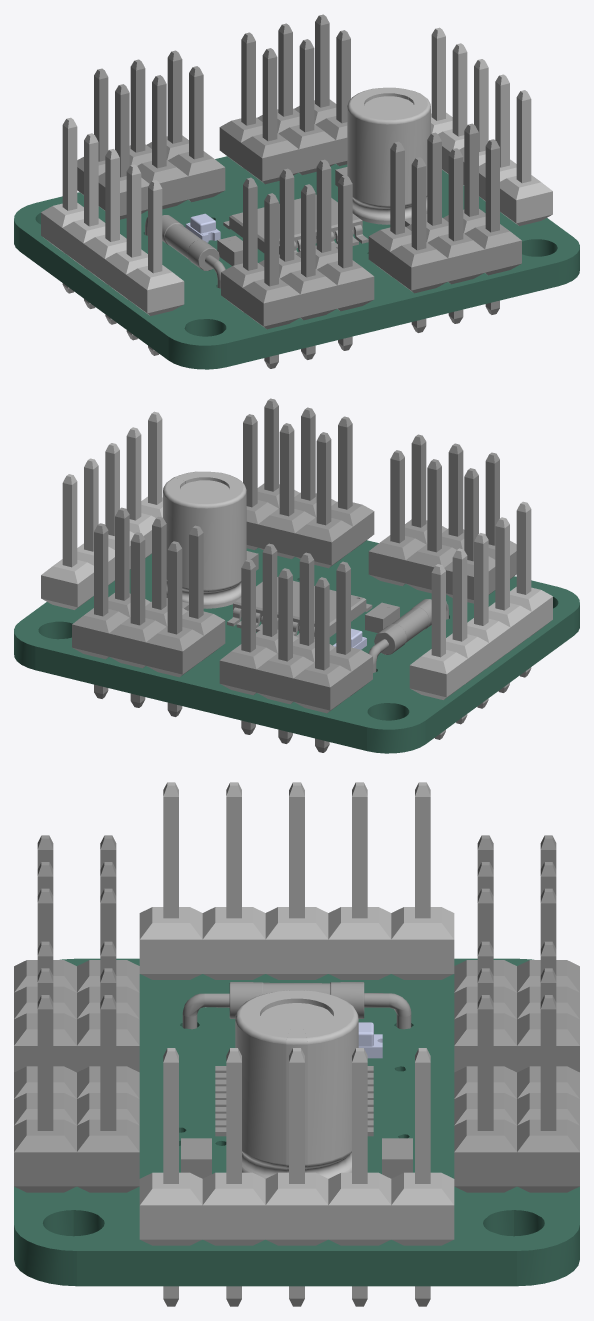
File: ada-1455.glb
3 renders of one model, top to bottom at view 1: azimuth 30°, elevation 25°; view 2: azimuth 150°, elevation 25°; view 3: azimuth 270°, elevation 25°, orthographic. The views are drawn at different scales.
Visible parts, largest first — view 1: 0.3333333333333333_0.3333333333333333_0.3333333333333333_0, 0.5_0.5_0.5_0.85, 0.08333333333333333_0.16666666666666666_0.16666666666666666_, 0.5833333333333334_0.6666666666666666_0.8333333333333334_0; view 2: 0.3333333333333333_0.3333333333333333_0.3333333333333333_0, 0.5_0.5_0.5_0.85, 0.08333333333333333_0.16666666666666666_0.16666666666666666_; view 3: 0.5_0.5_0.5_0.85, 0.3333333333333333_0.3333333333333333_0.3333333333333333_0, 0.08333333333333333_0.16666666666666666_0.16666666666666666_, 0.5833333333333334_0.6666666666666666_0.8333333333333334_0.
Boxes of the visible parts, <box> form: 0.3333333333333333_0.3333333333333333_0.3333333333333333_0: <box>77,14,521,368</box>; 0.5_0.5_0.5_0.85: <box>41,27,552,355</box>; 0.08333333333333333_0.16666666666666666_0.16666666666666666_: <box>14,156,579,369</box>; 0.5833333333333334_0.6666666666666666_0.8333333333333334_0: <box>185,213,220,242</box>; 0.3333333333333333_0.3333333333333333_0.3333333333333333_0: <box>72,398,516,752</box>; 0.5_0.5_0.5_0.85: <box>41,411,552,739</box>; 0.08333333333333333_0.16666666666666666_0.16666666666666666_: <box>14,540,579,753</box>; 0.5_0.5_0.5_0.85: <box>139,782,454,1306</box>; 0.3333333333333333_0.3333333333333333_0.3333333333333333_0: <box>14,835,579,1192</box>; 0.08333333333333333_0.16666666666666666_0.16666666666666666_: <box>14,958,579,1286</box>; 0.5833333333333334_0.6666666666666666_0.8333333333333334_0: <box>358,1022,382,1058</box>.
Bounding box in the file's own units: 2.79 × 1.14 × 2.29.
